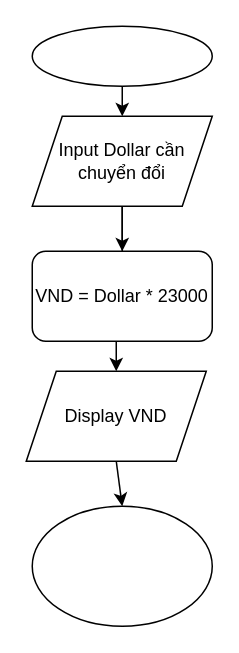
The diagram is 239 pixels wide and 653 high, and some of its shapes have lost their labels. The centre of each missing label's shape, as x and y in pixels:
"Begin" goes at (x=121, y=55).
"End" goes at (x=121, y=565).
